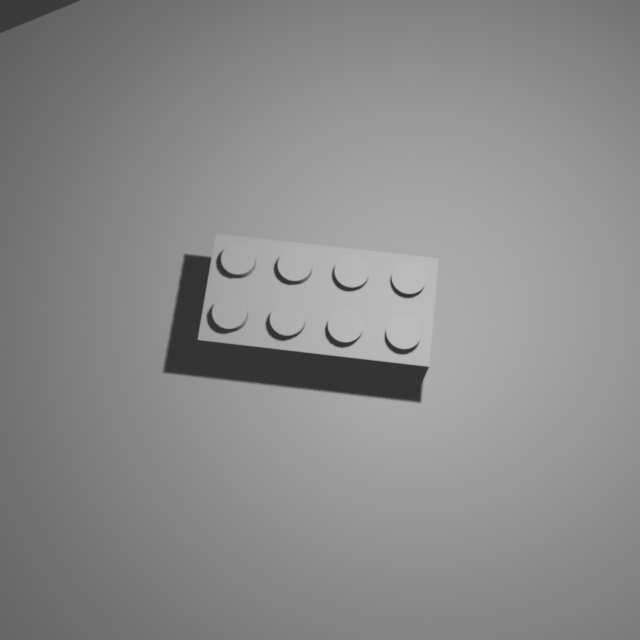lego_2x4: (196, 229, 440, 384)
